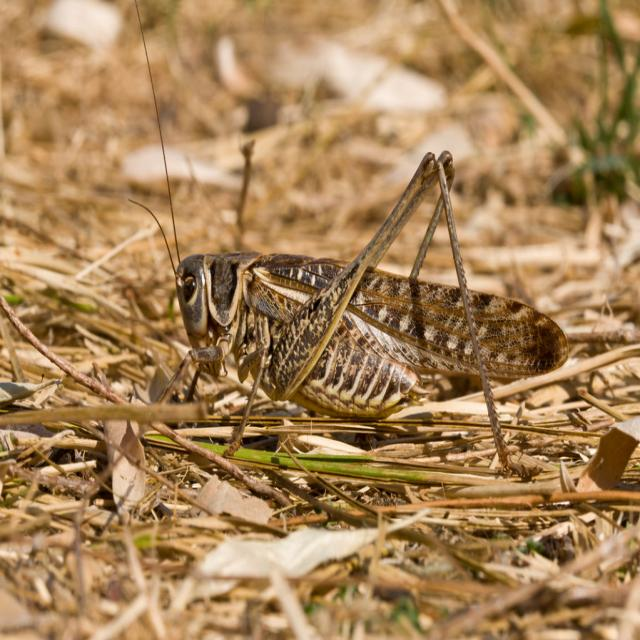ZhaMeng: (151, 154, 558, 491)
